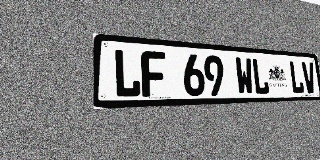6: (182, 53, 205, 96)
9: (203, 55, 225, 96)
F: (141, 50, 167, 97)
L: (113, 49, 141, 98), (251, 58, 270, 95), (289, 61, 305, 94)
V: (301, 62, 317, 93)
W: (235, 57, 254, 95)
